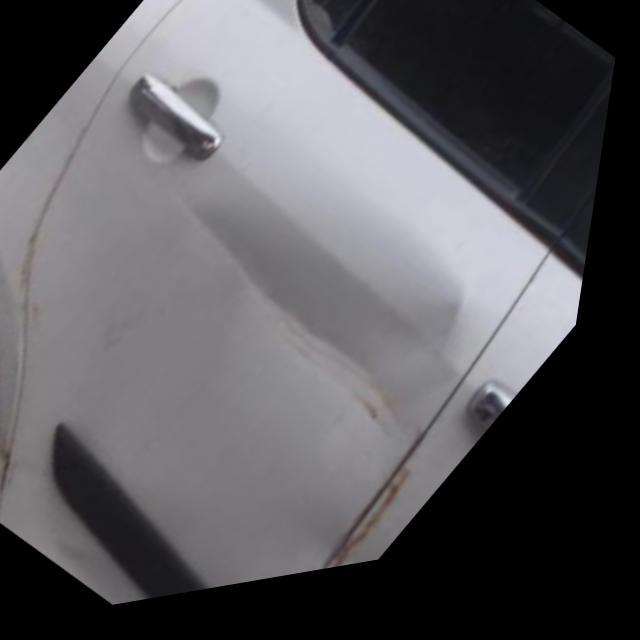crack: (18, 121, 110, 335), (1, 438, 32, 500)
scratch: (167, 195, 433, 453), (335, 470, 450, 585), (0, 437, 86, 572), (13, 113, 54, 162)
